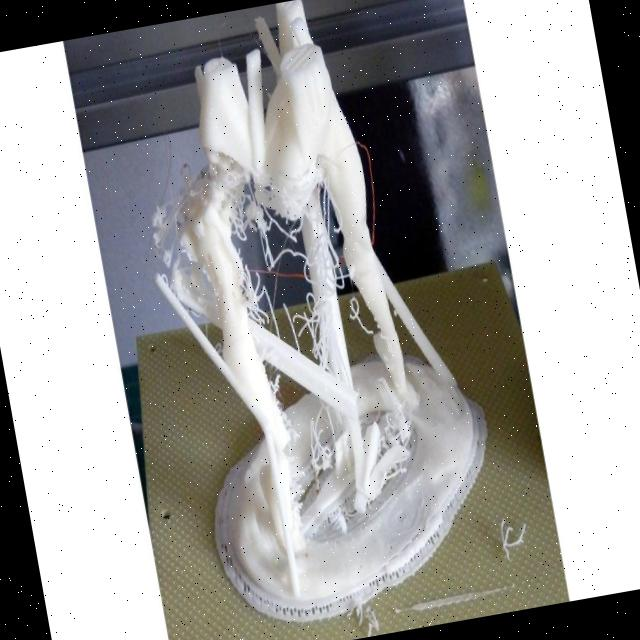spaghetti: (125, 148, 226, 301), (241, 197, 324, 355), (284, 400, 344, 508), (354, 406, 424, 492), (346, 289, 374, 380)
